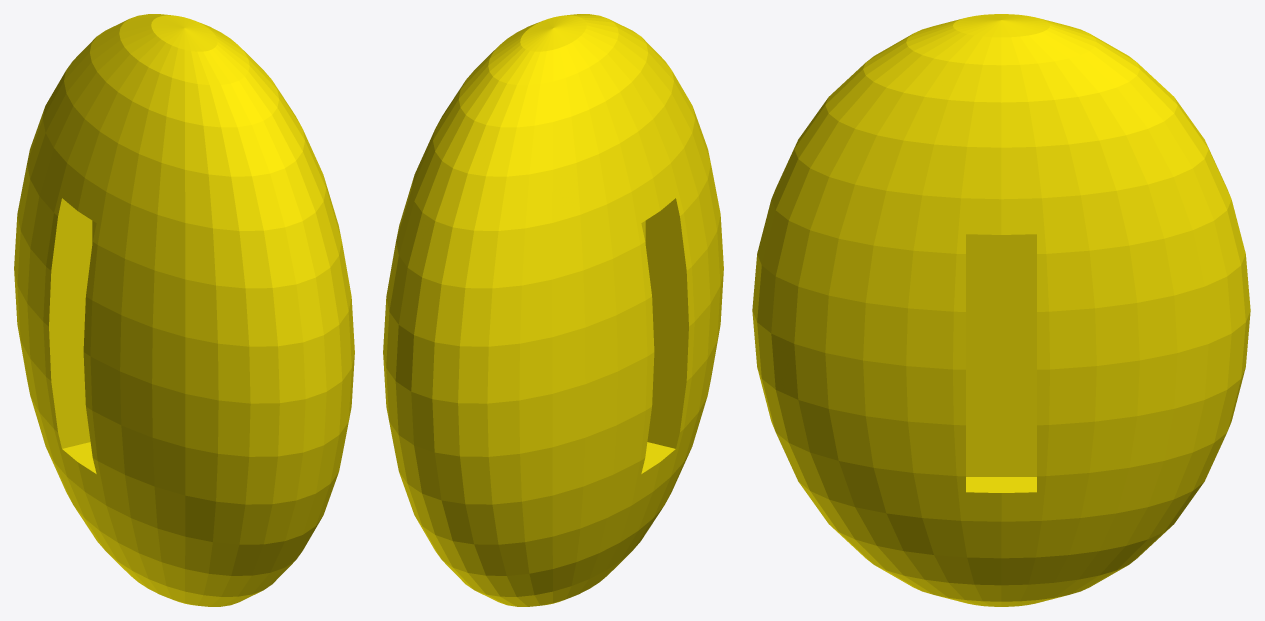
Rendered from coin.obj.
3 views of the same model, side by side, from view 1: azimuth 30°, elevation 25°; view 2: azimuth 150°, elevation 25°; view 3: azimuth 270°, elevation 25° (orthographic). The views are drawn at different scales.
Visible parts, largest first — view 1: coin; view 2: coin; view 3: coin.
Boxes of the visible parts, box(x1,y1,x2,y2) form: coin: box(14, 14, 354, 606); coin: box(383, 14, 723, 606); coin: box(752, 14, 1250, 606).
Bounding box in the file's own units: 0.7887 × 1.8 × 1.4.
1 material, 1 textured.
